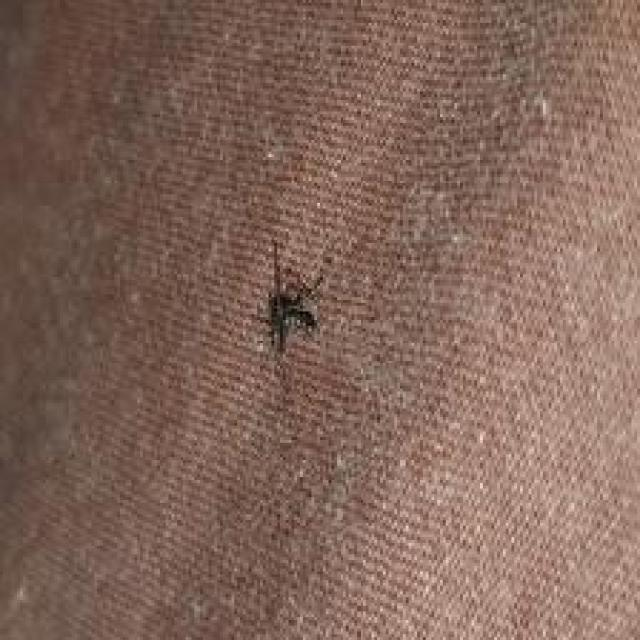Aedes albopictus: (253, 238, 327, 356)
